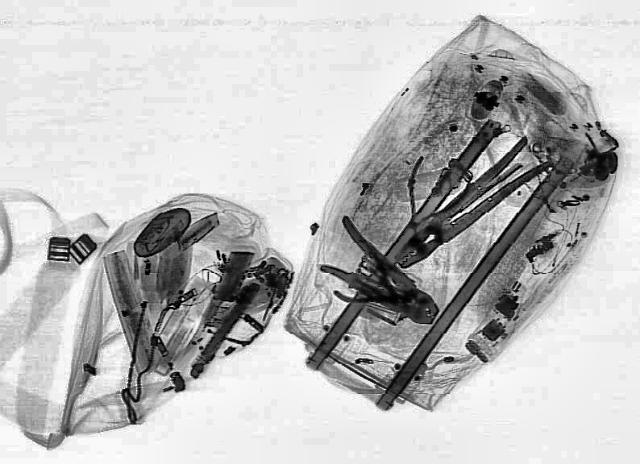Pliers: (378, 136, 562, 276), (289, 214, 467, 336), (323, 260, 423, 324)
